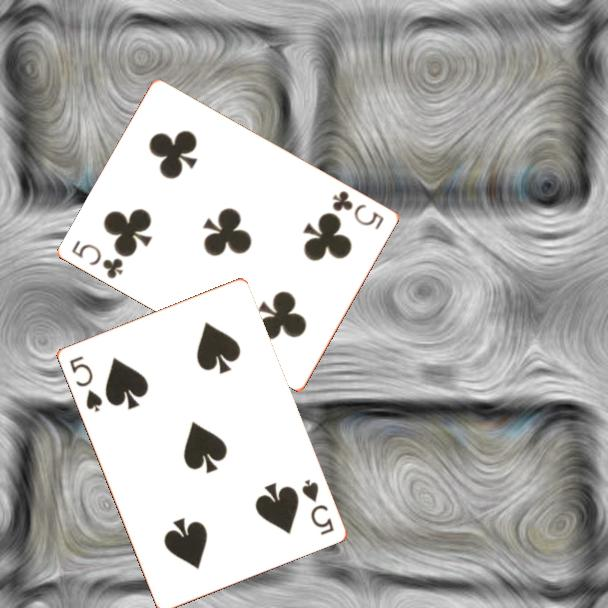c05: (329, 187, 387, 233), (68, 236, 126, 282)
s05: (65, 352, 105, 415), (298, 476, 336, 538)
